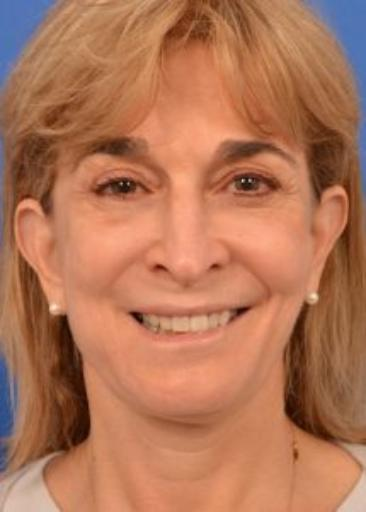left_eye: (218, 174, 281, 198)
left_lip_corner: (240, 301, 257, 317)
right_eye: (94, 179, 153, 198)
right_lip_corner: (125, 309, 138, 320)
